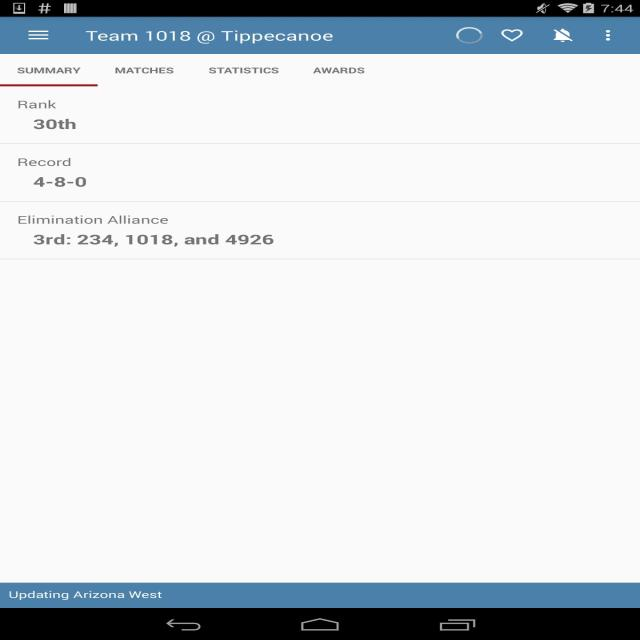button: (102, 56, 185, 84), (8, 56, 90, 84), (200, 58, 288, 84), (300, 59, 374, 84), (23, 25, 55, 46), (547, 27, 577, 45), (502, 26, 524, 46), (597, 26, 618, 45)
heading: (83, 27, 335, 47)
text: (33, 233, 276, 247), (8, 588, 165, 602), (14, 213, 167, 226), (30, 118, 82, 133), (30, 175, 88, 187), (15, 157, 73, 168), (17, 98, 58, 108)
